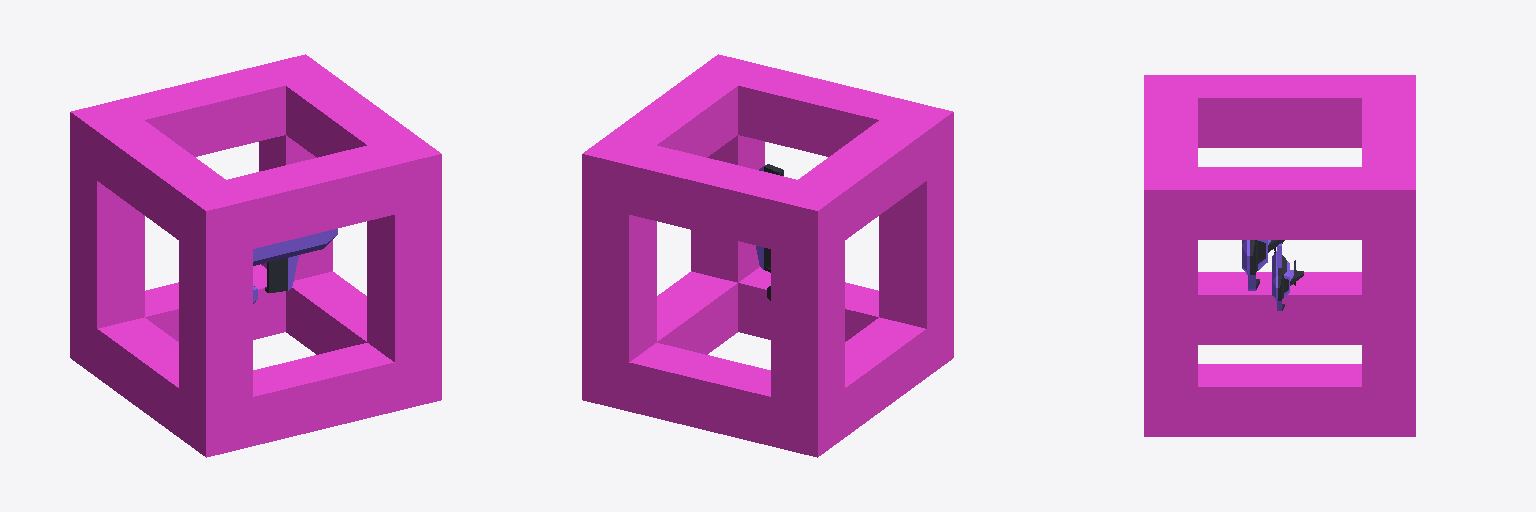
Rendered from growth.obj.
3 views of the same model, side by side, from view 1: azimuth 30°, elevation 25°; view 2: azimuth 150°, elevation 25°; view 3: azimuth 270°, elevation 25° (orthographic).
Parts seen in each view (by area): view 1: mergedBlocks; view 2: mergedBlocks; view 3: mergedBlocks.
Boxes of the visible parts, <box> form: mergedBlocks: <box>70,54,441,457</box>; mergedBlocks: <box>582,54,953,457</box>; mergedBlocks: <box>1144,75,1415,436</box>.
Size of the model in its own units: 1 by 1 by 1.